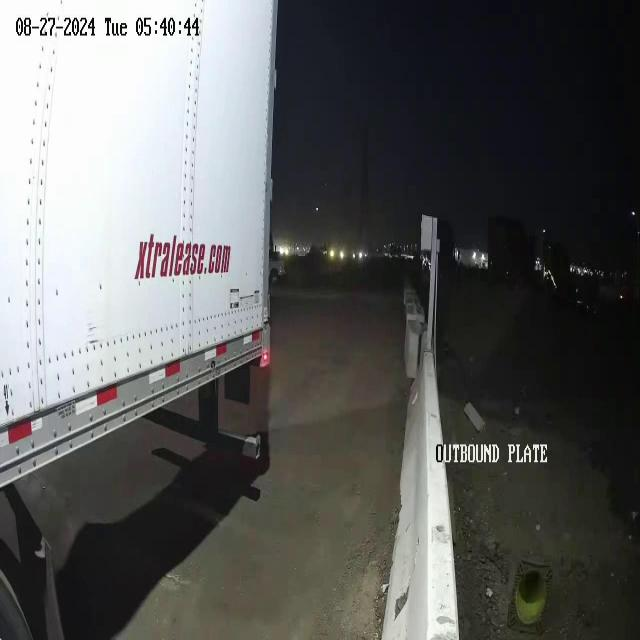TRUCK_CONTAINER: (1, 1, 279, 487)
